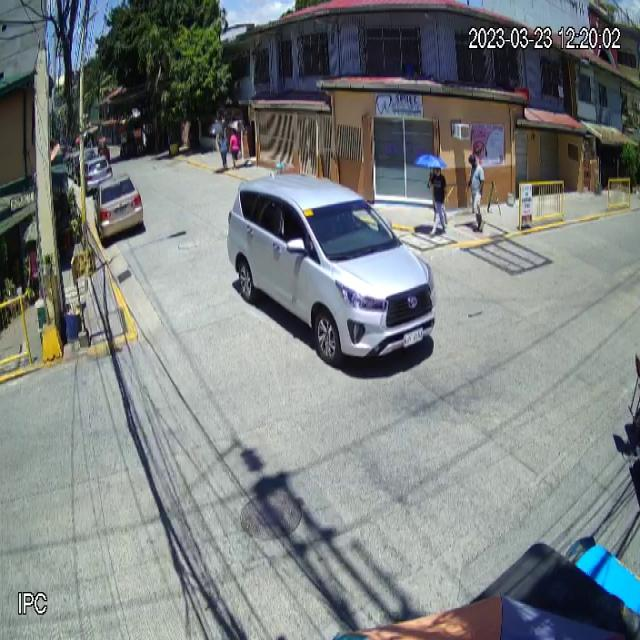Car: (228, 170, 435, 364)
